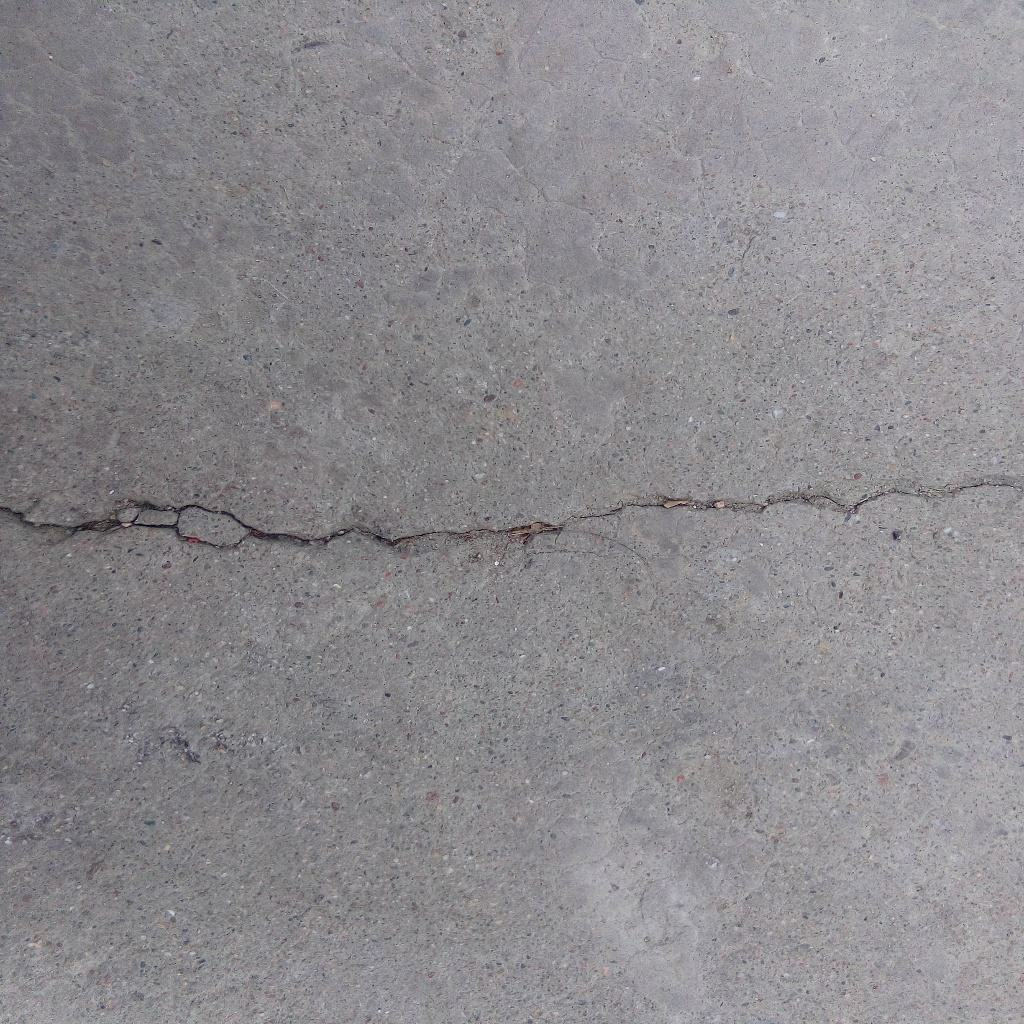Crack: (1, 472, 1024, 561)
